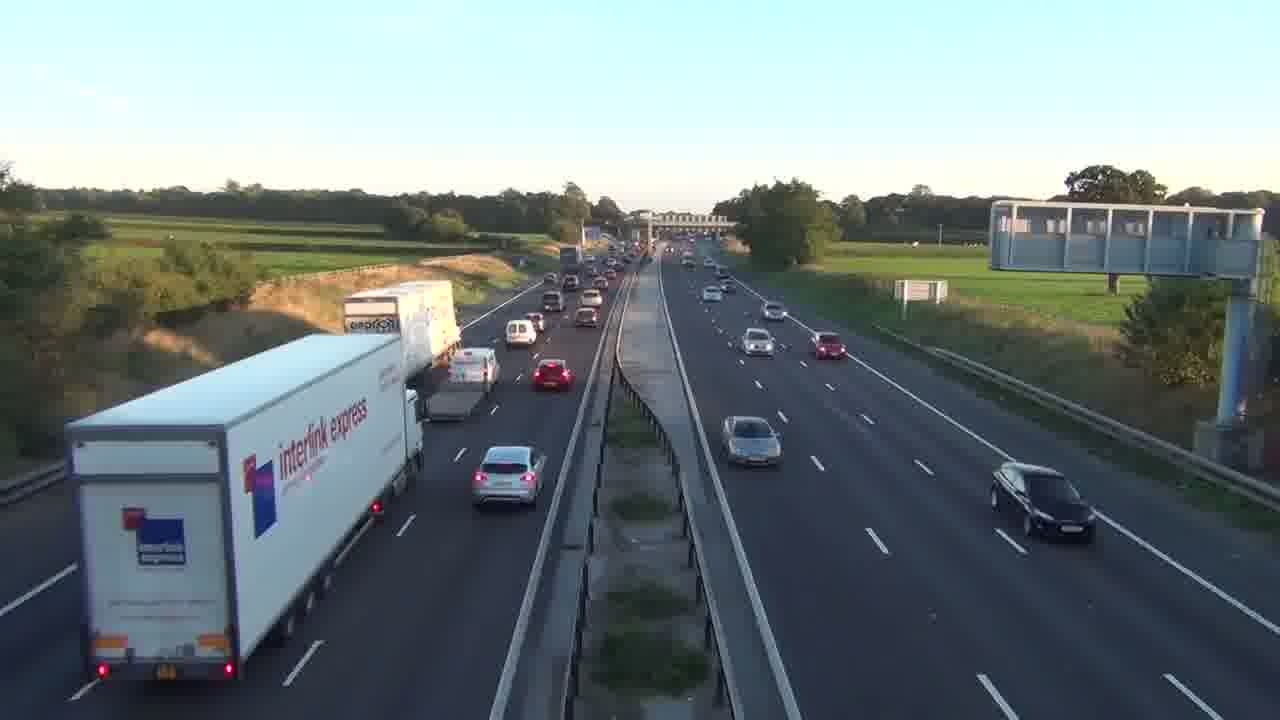car: (990, 461, 1096, 542), (470, 445, 548, 510), (720, 415, 783, 468), (530, 357, 577, 392), (742, 328, 775, 359), (814, 333, 849, 360)
truck: (64, 330, 425, 688), (342, 280, 460, 382), (505, 318, 537, 348)
